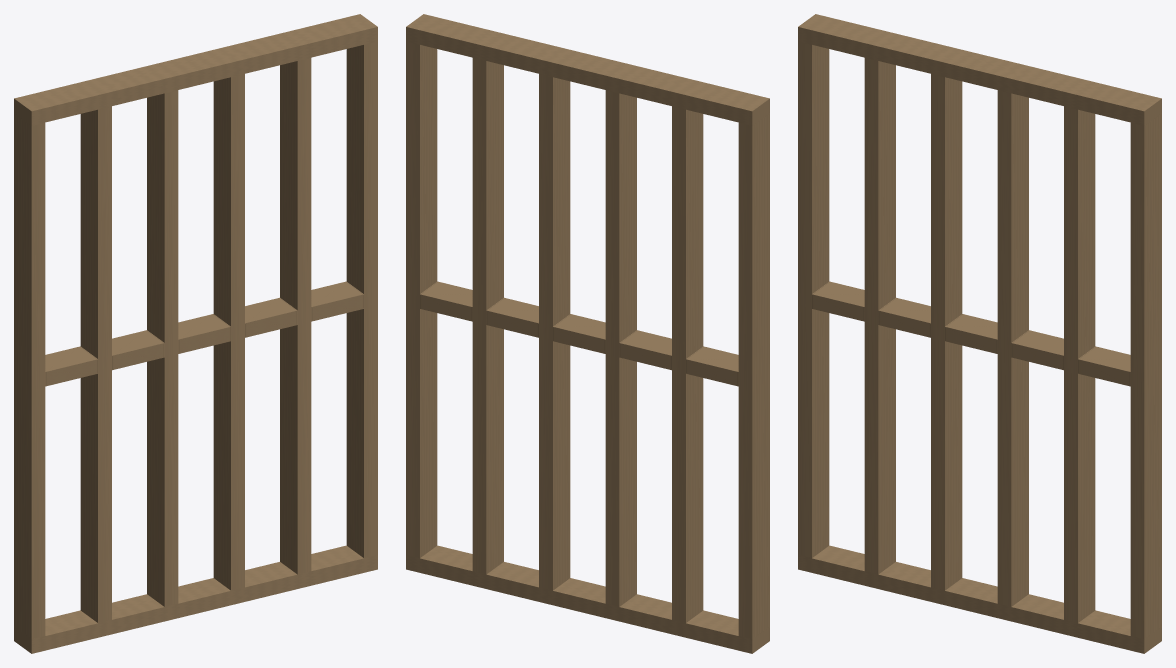
The model's file is 01_wall_timber_frame_only.glb.
The picture shows the model from 3 angles, left to right: view 1: azimuth 30°, elevation 25°; view 2: azimuth 150°, elevation 25°; view 3: azimuth 330°, elevation 25°; orthographic projection.
Parts seen in each view (by area): view 1: Body; view 2: Body; view 3: Body.
Part boxes in pixels (bbox=[...]): Body: bbox=[14, 14, 377, 653]; Body: bbox=[406, 14, 769, 653]; Body: bbox=[798, 14, 1161, 653].
Size of what is drawn, in the model's own units: 2 by 3 by 0.1762.
Materials: 1 (1 with a texture image).
